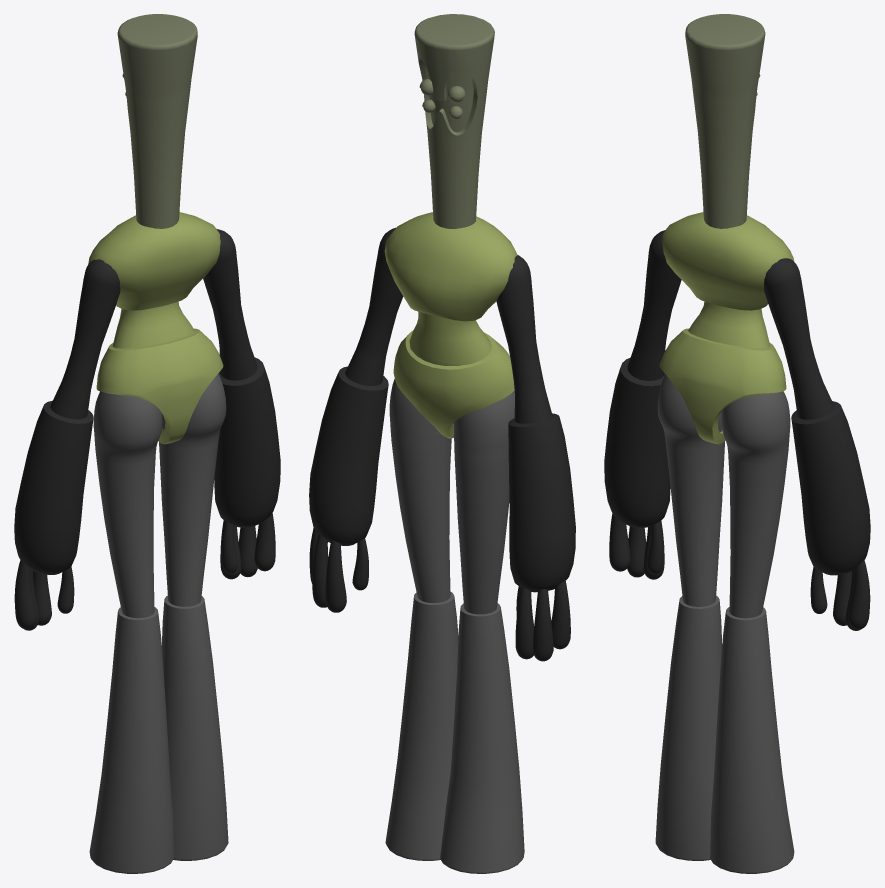
The model's file is Florence_TextureReady.fbx.
3 views of the same model, side by side, from view 1: azimuth 30°, elevation 25°; view 2: azimuth 150°, elevation 25°; view 3: azimuth 330°, elevation 25° (orthographic).
Visible parts, largest first — view 1: L_Foot, R_Foot, Head, L_Thigh, L_Hand, R_Thigh, R_Hand, Chest, Pelvis, L_Shoulder, R_Shoulder, Waist (+6 smaller); view 2: L_Foot, R_Foot, Head, Chest, L_Hand, R_Hand, L_Thigh, R_Thigh, Pelvis, L_Shoulder, R_Shoulder, Waist (+6 smaller); view 3: R_Foot, L_Foot, Head, R_Thigh, R_Hand, L_Thigh, L_Hand, Chest, Pelvis, R_Shoulder, L_Shoulder, Waist (+6 smaller).
Part boxes in pixels (x1=…): L_Foot: x1=89, y1=607, x2=173, y2=873; R_Foot: x1=161, y1=595, x2=228, y2=860; Head: x1=117, y1=14, x2=197, y2=228; L_Thigh: x1=93, y1=391, x2=162, y2=618; L_Hand: x1=14, y1=400, x2=93, y2=574; R_Thigh: x1=159, y1=373, x2=226, y2=606; R_Hand: x1=214, y1=357, x2=280, y2=527; Chest: x1=88, y1=212, x2=220, y2=310; Pelvis: x1=96, y1=328, x2=223, y2=444; L_Shoulder: x1=50, y1=259, x2=120, y2=419; R_Shoulder: x1=203, y1=229, x2=257, y2=380; Waist: x1=112, y1=301, x2=194, y2=348; L_Foot: x1=440, y1=603, x2=524, y2=873; R_Foot: x1=385, y1=591, x2=458, y2=860; Head: x1=414, y1=14, x2=494, y2=228; Chest: x1=384, y1=212, x2=517, y2=321; L_Hand: x1=508, y1=413, x2=575, y2=592; R_Hand: x1=309, y1=366, x2=388, y2=545; L_Thigh: x1=454, y1=391, x2=514, y2=614; R_Thigh: x1=389, y1=379, x2=453, y2=602; Pelvis: x1=393, y1=330, x2=514, y2=438; L_Shoulder: x1=496, y1=255, x2=552, y2=423; R_Shoulder: x1=345, y1=227, x2=403, y2=385; Waist: x1=409, y1=311, x2=491, y2=365; R_Foot: x1=710, y1=607, x2=794, y2=873; L_Foot: x1=655, y1=595, x2=722, y2=860; Head: x1=685, y1=14, x2=765, y2=228; R_Thigh: x1=721, y1=391, x2=790, y2=618; R_Hand: x1=791, y1=401, x2=870, y2=575; L_Thigh: x1=657, y1=374, x2=724, y2=606; L_Hand: x1=604, y1=358, x2=670, y2=527; Chest: x1=662, y1=212, x2=794, y2=310; Pelvis: x1=659, y1=328, x2=786, y2=444; R_Shoulder: x1=764, y1=258, x2=834, y2=419; L_Shoulder: x1=627, y1=230, x2=681, y2=380; Waist: x1=688, y1=301, x2=770, y2=348.
Bounding box in the file's own units: 3.87 × 11.77 × 1.38.
